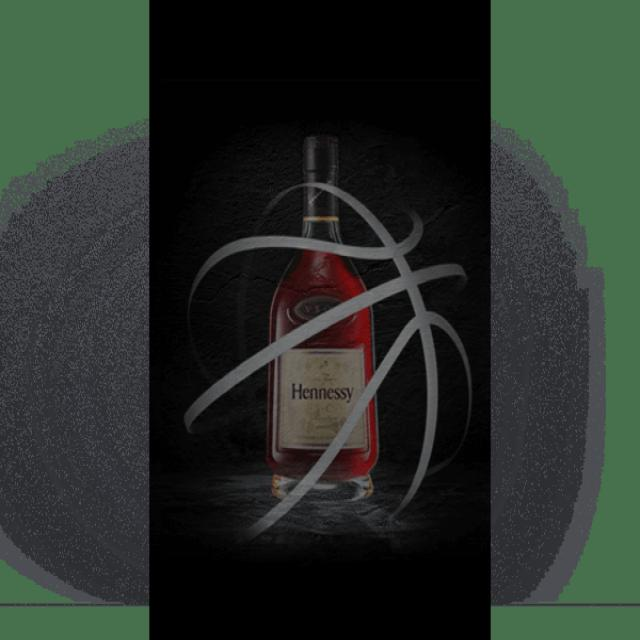Background Image: (2, 1, 637, 636)
Coupon or Offer Code: (275, 343, 368, 452)
Map or Location Image: (490, 117, 608, 606)
Mascot: (182, 130, 472, 528)
Social Proof: (263, 133, 380, 502)
Text Elements: (285, 370, 358, 412), (289, 380, 353, 402)
